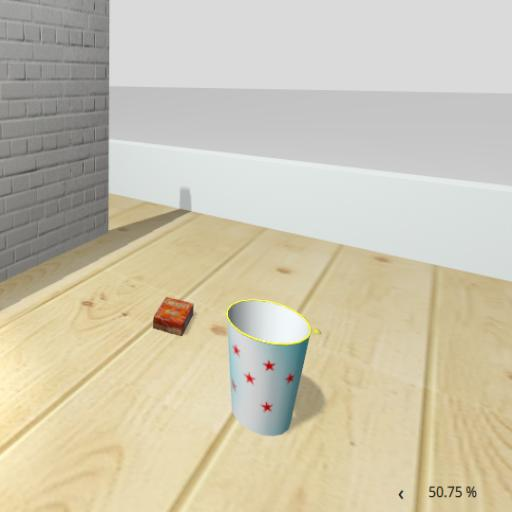BOX_R: (140, 260, 198, 364)
Trash: (219, 288, 321, 472)
